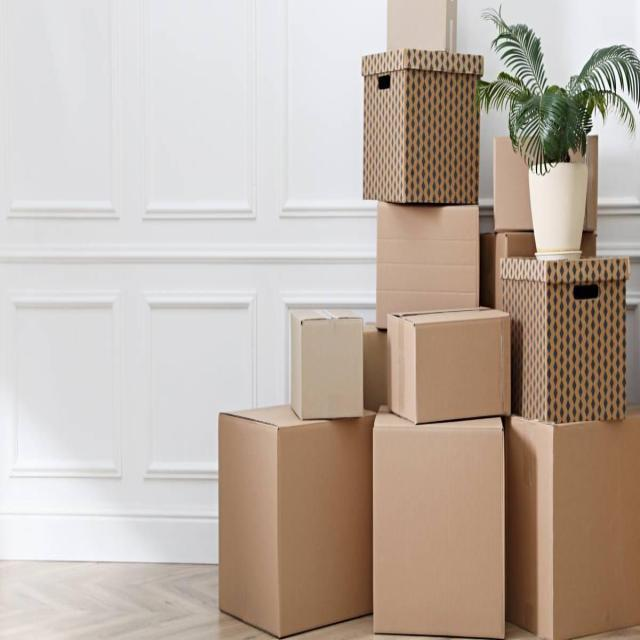Pathole: (216, 389, 377, 636), (372, 406, 508, 640), (510, 412, 640, 637), (497, 246, 628, 424), (356, 48, 481, 199), (375, 201, 482, 339), (386, 305, 512, 420), (286, 305, 368, 420)
